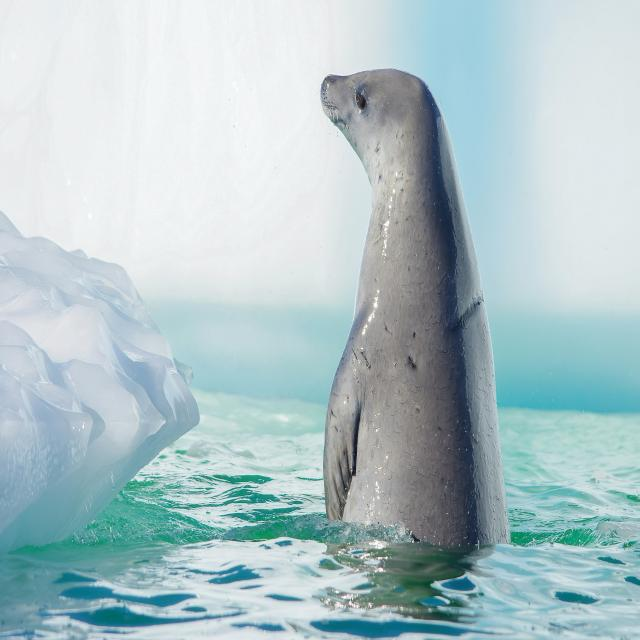puffin: (320, 69, 510, 546)
